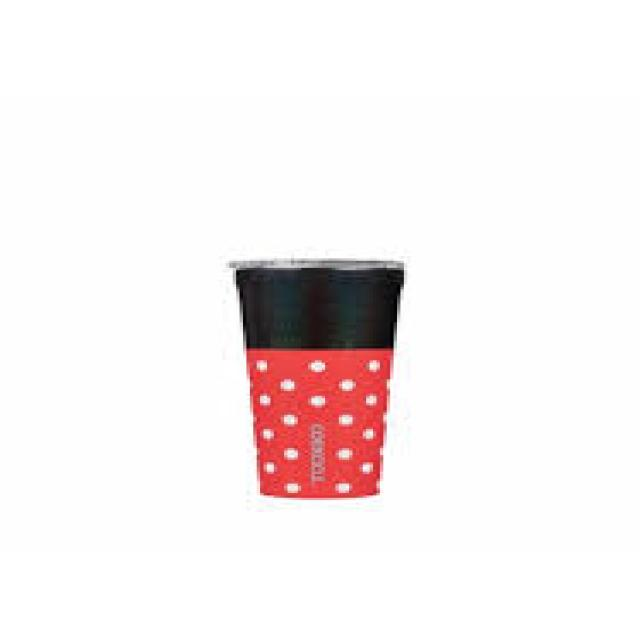bottle: (231, 259, 407, 497)
